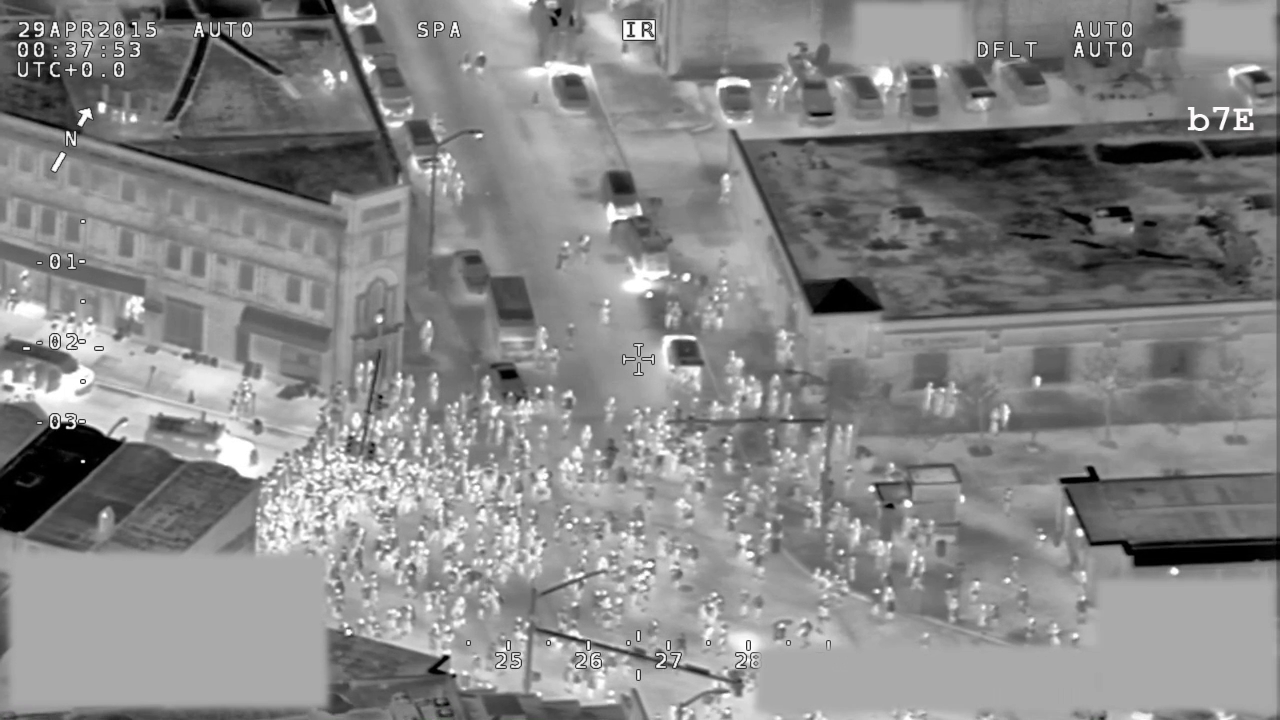vehicle: (140, 410, 263, 483), (1, 337, 100, 406), (483, 271, 547, 362), (783, 38, 841, 126), (608, 215, 678, 287), (368, 50, 423, 126), (395, 118, 455, 179), (528, 1, 589, 61), (594, 162, 649, 228), (540, 61, 596, 120), (1218, 59, 1280, 112), (944, 61, 1001, 116), (710, 69, 759, 130), (998, 58, 1056, 109), (899, 58, 943, 122), (656, 329, 706, 384), (842, 70, 888, 127), (449, 242, 495, 297), (351, 27, 400, 76), (484, 360, 531, 408)
